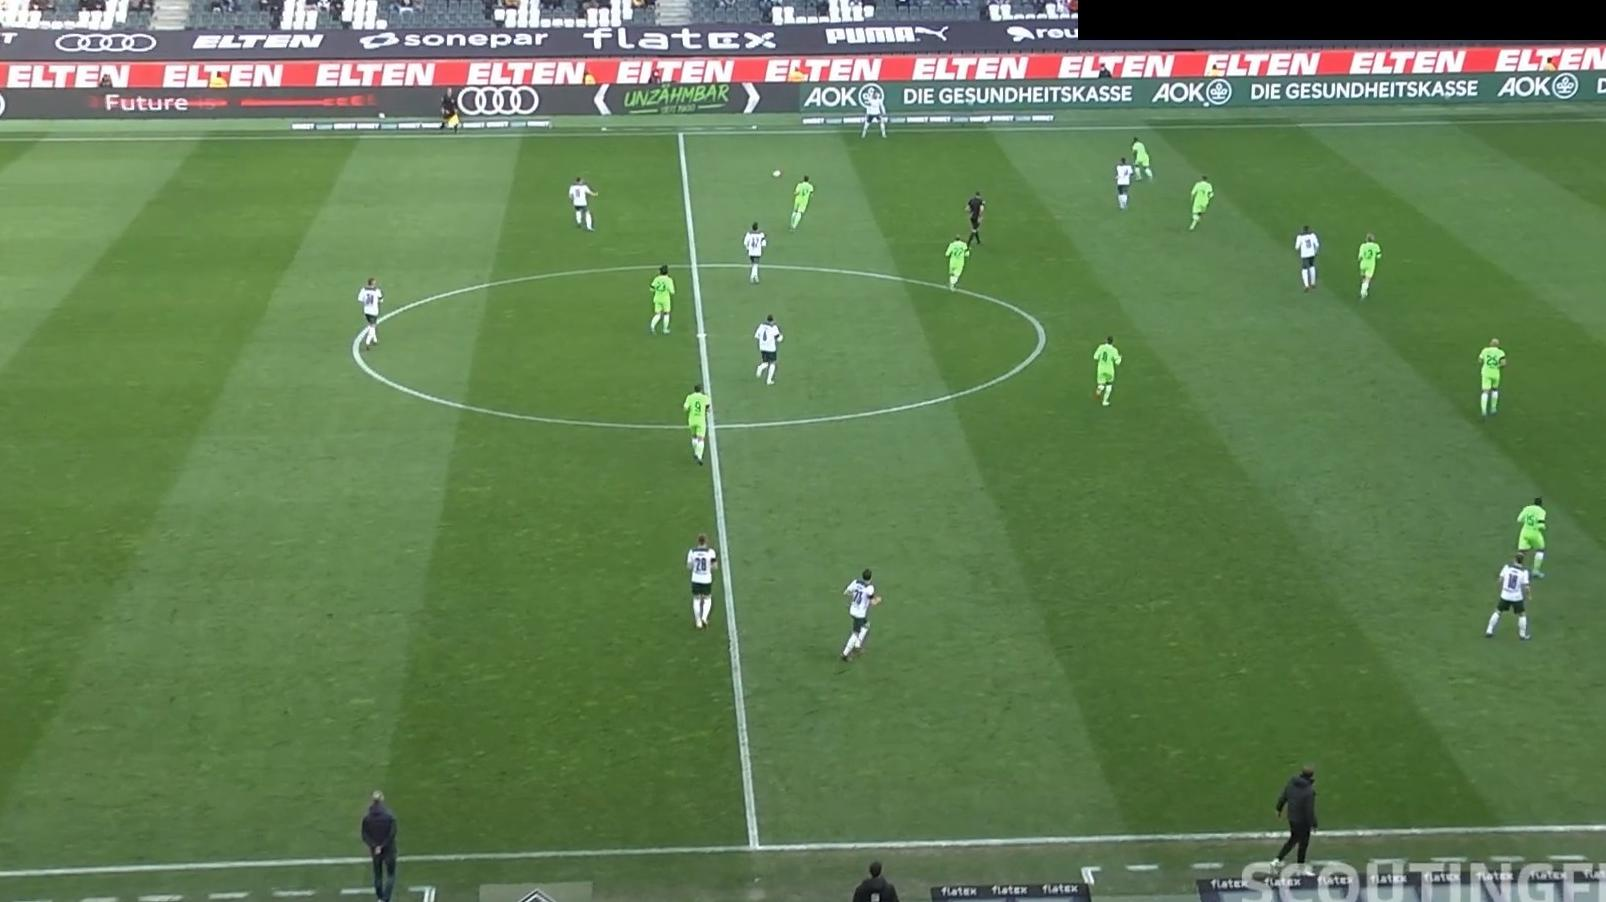ball: (771, 169, 783, 180)
